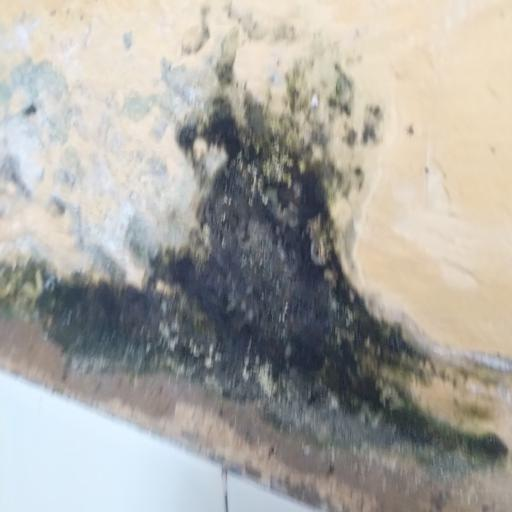algae: (30, 49, 511, 480)
